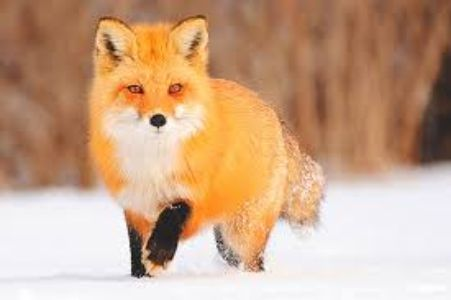fox: (80, 9, 332, 278)
